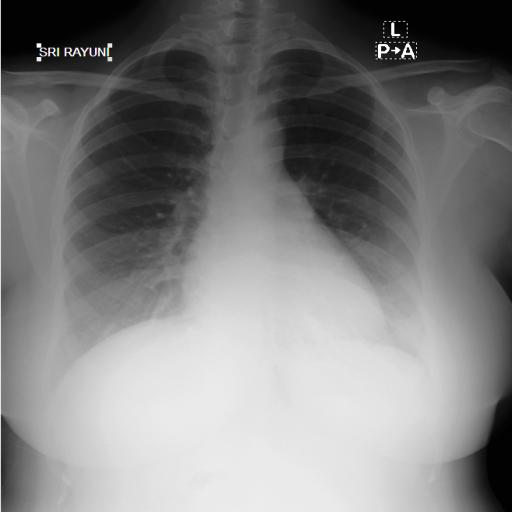kardiomegali: (38, 7, 450, 408)
